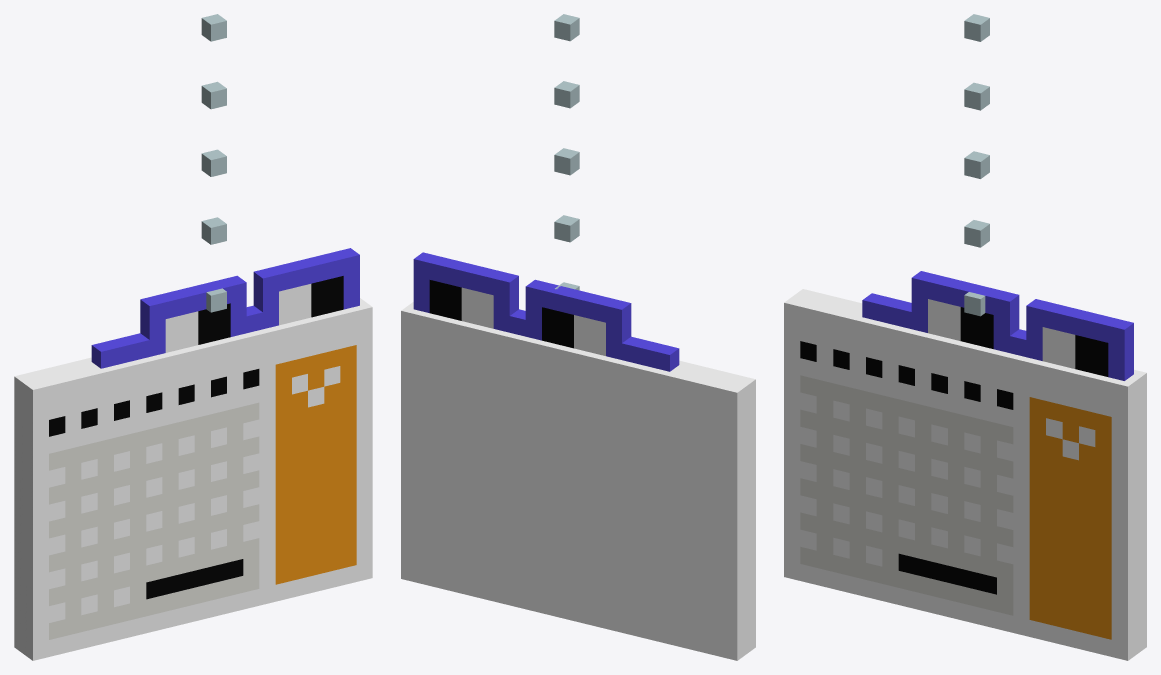
Rendered from calendar.glb.
The picture shows the model from 3 angles, left to right: view 1: azimuth 30°, elevation 25°; view 2: azimuth 150°, elevation 25°; view 3: azimuth 330°, elevation 25°; orthographic projection. The views are drawn at different scales.
Visible parts, largest first — view 1: front, glasses, layer-2, back, r1 (2); view 2: back, glasses, layer-2, front, r1 (2); view 3: front, glasses, layer-2, back, r1 (2).
Part boxes in pixels (x1,y1,x2,y2): front: (23, 300, 372, 660); glasses: (91, 248, 359, 368); layer-2: (165, 276, 343, 352); back: (14, 298, 362, 653); r1 (2): (201, 14, 226, 312); back: (401, 304, 746, 660); glasses: (413, 252, 679, 371); layer-2: (429, 280, 605, 355); front: (411, 302, 755, 653); r1 (2): (554, 14, 579, 290); front: (784, 296, 1137, 660); glasses: (862, 271, 1133, 380); layer-2: (928, 299, 1108, 376); back: (794, 289, 1146, 653); r1 (2): (964, 14, 989, 316).
Size of the model in its own units: 21 by 35 by 2.
10 materials, 10 textured.
